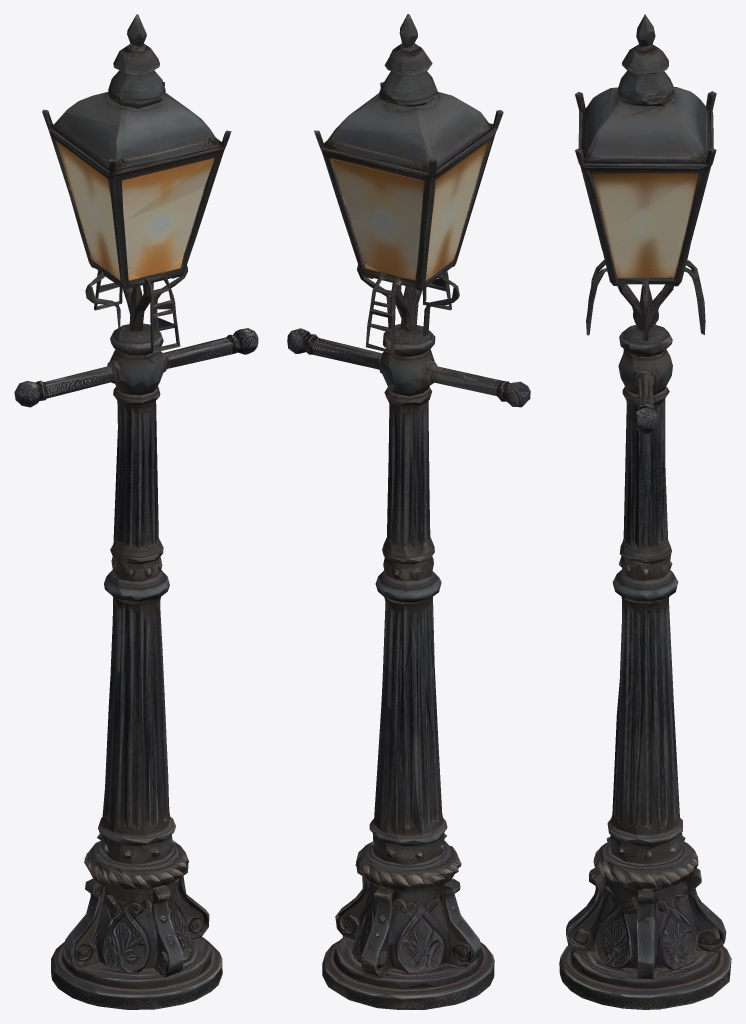
The model's file is prop-lamp.glb.
3 renders of one model, left to right at view 1: azimuth 30°, elevation 25°; view 2: azimuth 150°, elevation 25°; view 3: azimuth 270°, elevation 25°, orthographic.
Size of the model in its own units: 0.4965 by 1.9 by 0.3088.
Materials: 1 (1 with a texture image).
